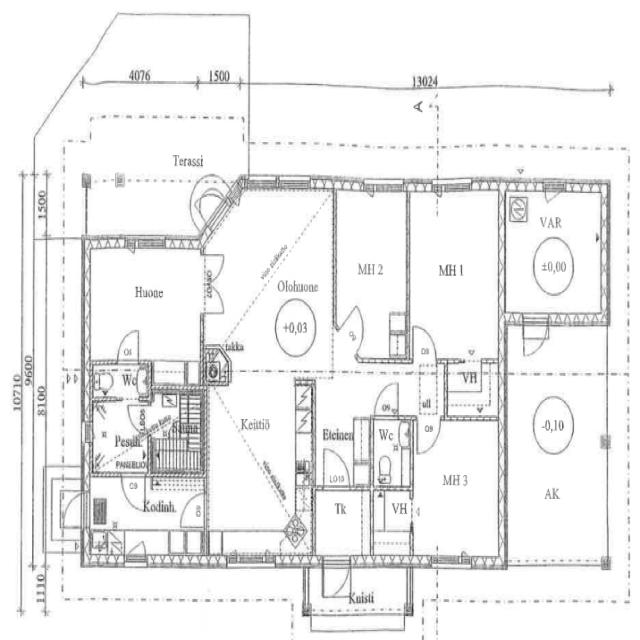door: (102, 471, 164, 518), (200, 247, 228, 308), (320, 443, 352, 492), (322, 554, 351, 600), (119, 470, 149, 514), (521, 316, 549, 362), (178, 489, 207, 532), (58, 489, 86, 533), (372, 378, 401, 419), (115, 326, 143, 366), (411, 322, 439, 362), (415, 416, 442, 456), (202, 281, 228, 317), (125, 401, 149, 434)
window: (508, 555, 600, 574), (599, 452, 614, 560), (225, 550, 277, 573), (364, 178, 406, 199), (134, 233, 168, 256), (277, 173, 312, 195), (122, 542, 150, 569), (439, 177, 476, 197), (434, 552, 471, 571)
zone: (215, 182, 336, 380), (408, 187, 500, 360), (503, 184, 608, 320), (87, 245, 203, 362), (412, 414, 500, 564), (334, 187, 409, 363), (79, 476, 206, 566), (147, 390, 204, 479), (99, 469, 180, 529), (89, 399, 150, 476), (313, 488, 372, 561), (444, 360, 499, 420), (372, 417, 412, 491), (89, 360, 152, 402), (371, 488, 414, 536), (372, 527, 412, 564), (115, 535, 156, 570)
